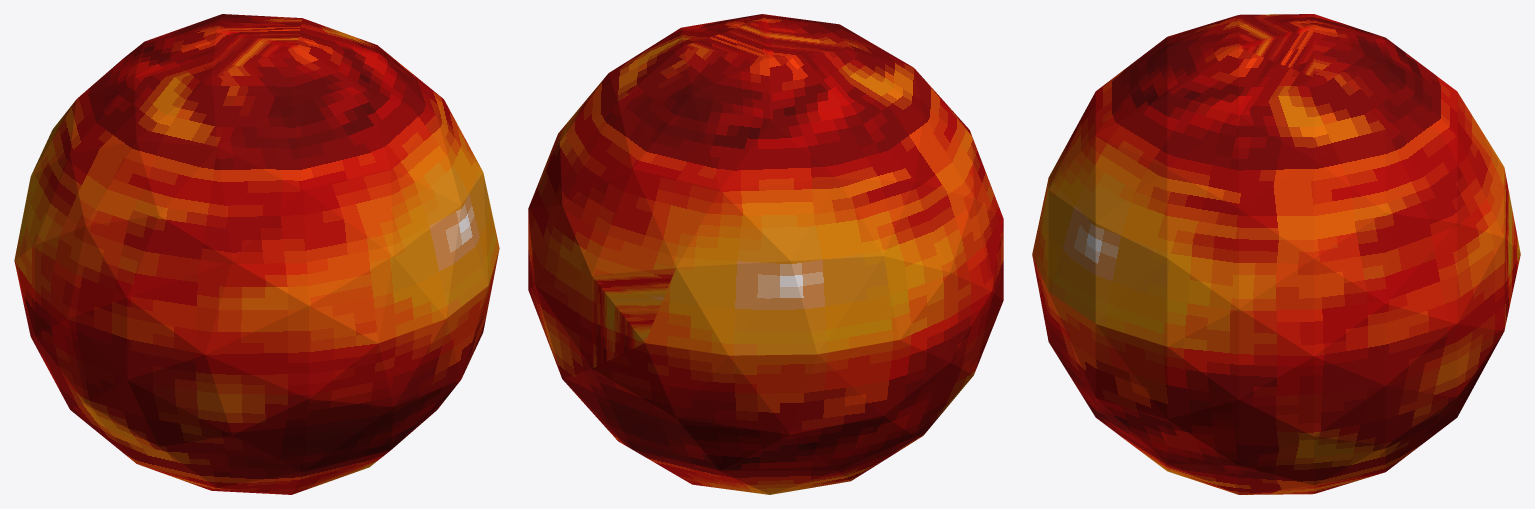
File: Red Orb.obj
3 views of the same model, side by side, from view 1: azimuth 30°, elevation 25°; view 2: azimuth 150°, elevation 25°; view 3: azimuth 270°, elevation 25° (orthographic).
Parts seen in each view (by area): view 1: MODELS_bin_036:poly000; view 2: MODELS_bin_036:poly000; view 3: MODELS_bin_036:poly000.
Boxes of the visible parts, <box> form: MODELS_bin_036:poly000: <box>14,14,499,494</box>; MODELS_bin_036:poly000: <box>528,14,1003,494</box>; MODELS_bin_036:poly000: <box>1032,14,1520,494</box>.
Size of the model in its own units: 1.36 by 1.36 by 1.38.
Materials: 1 (1 with a texture image).
